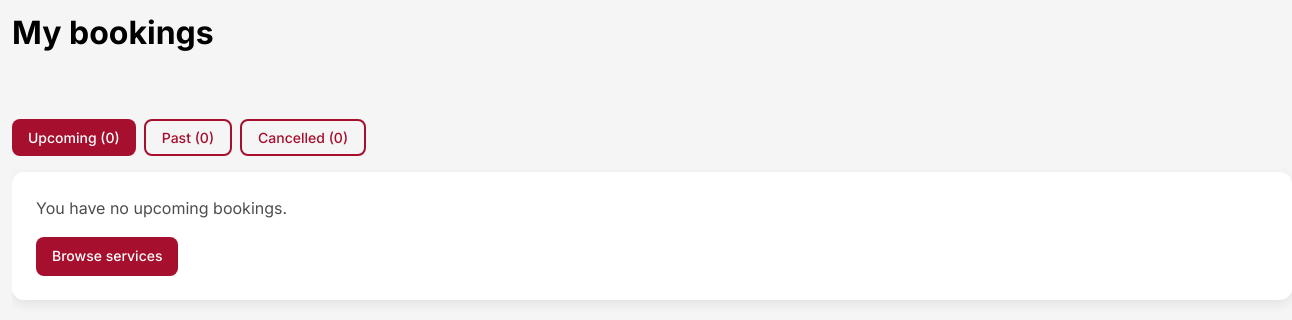
it: MyBookings page › shows empty-state message when tab has no bookings
Past tab likely has no bookings in test fixtures (all future)
Step 1. Click the tab "Past (0)" → x=188, y=137, box [144, 119, 232, 156]
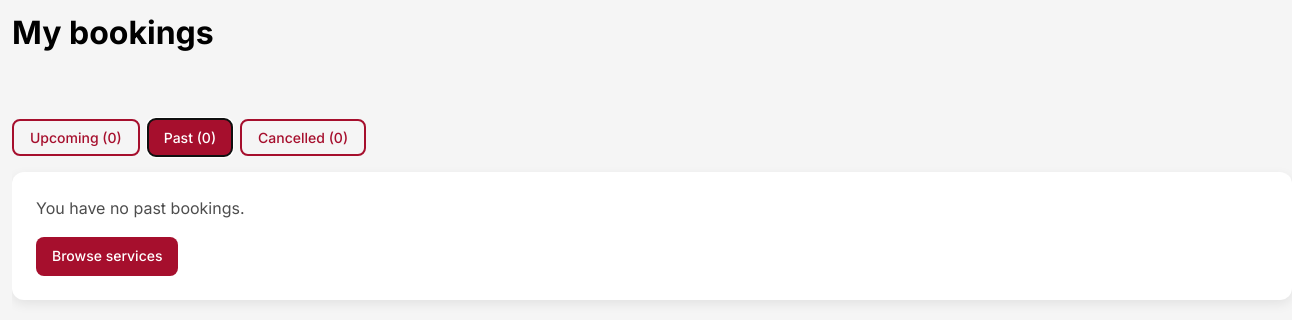
Check: the text "You have no past bookings." is shown, box [36, 198, 244, 218]
